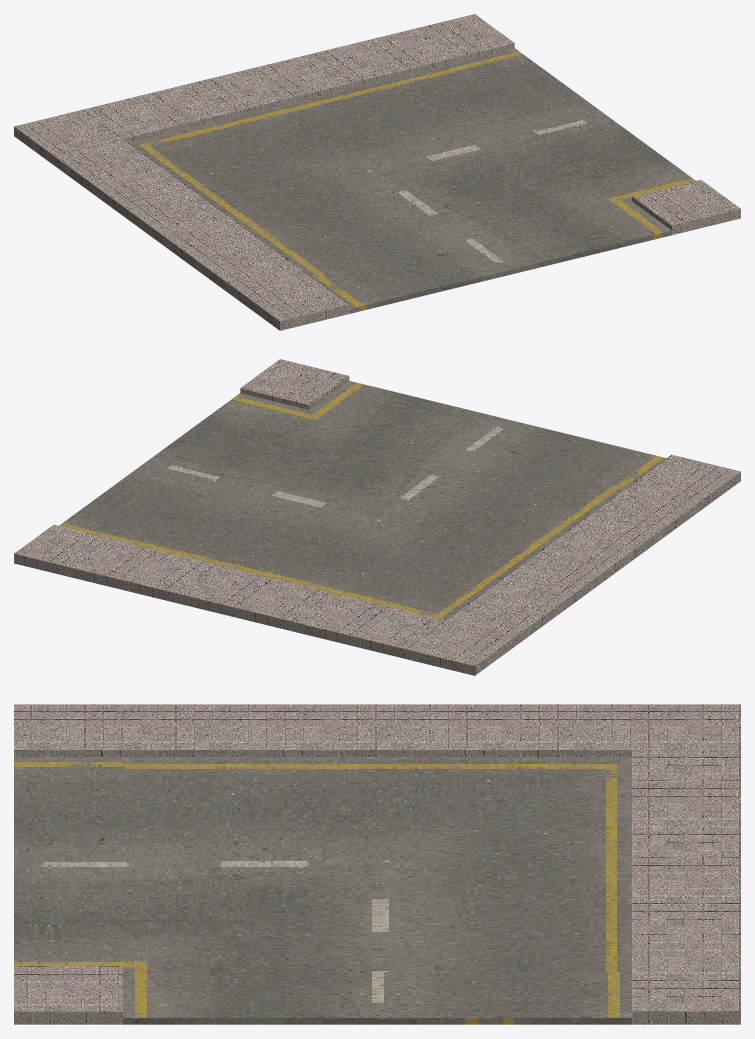
File: road_1_corner.glb
3 views of the same model, one above another, from view 1: azimuth 30°, elevation 25°; view 2: azimuth 150°, elevation 25°; view 3: azimuth 270°, elevation 25° (orthographic). The views are drawn at different scales.
Visible parts, largest first — view 1: road_1_corner; view 2: road_1_corner; view 3: road_1_corner.
Part boxes in pixels (left/top/right/bottom): road_1_corner: left=14, top=14, right=740, bottom=330; road_1_corner: left=14, top=359, right=740, bottom=675; road_1_corner: left=14, top=704, right=740, bottom=1024.
Bounding box in the file's own units: 16 × 0.32 × 16.
Materials: 2 (2 with a texture image).
